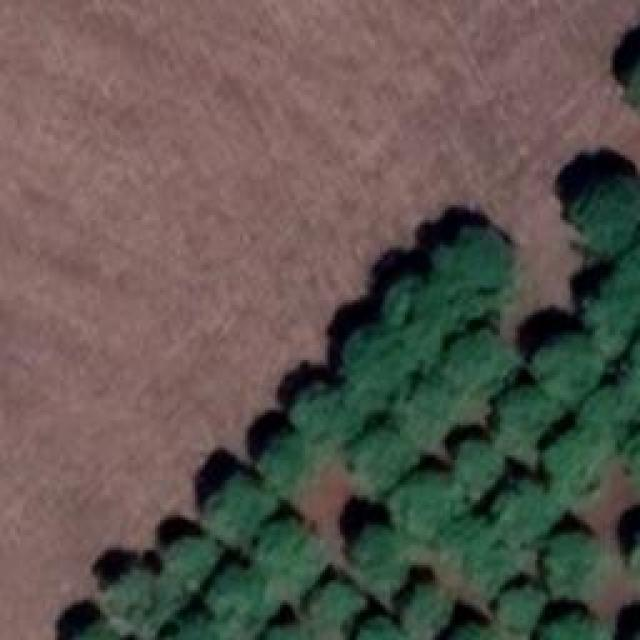Tree: (382, 273, 478, 361), (343, 322, 435, 405), (558, 160, 640, 242), (438, 225, 514, 303), (435, 324, 511, 402), (245, 513, 319, 590), (205, 473, 280, 546), (525, 333, 605, 401), (343, 420, 419, 491), (390, 475, 467, 537), (540, 425, 605, 497), (488, 376, 555, 444), (438, 518, 511, 580), (385, 375, 448, 445), (352, 525, 410, 601), (292, 387, 362, 445), (198, 563, 265, 623), (487, 482, 557, 539), (540, 532, 603, 590), (592, 278, 640, 353), (248, 427, 309, 486), (580, 377, 640, 435), (102, 573, 172, 620), (303, 583, 371, 630), (533, 600, 612, 640), (443, 443, 505, 492), (162, 538, 220, 586), (390, 582, 445, 627), (152, 605, 220, 640), (612, 28, 640, 109), (494, 585, 546, 627), (64, 615, 125, 640), (615, 250, 640, 303), (350, 615, 400, 640), (435, 620, 495, 640), (617, 418, 640, 469), (620, 505, 640, 558), (253, 620, 307, 639), (625, 330, 640, 394), (627, 625, 640, 640)
